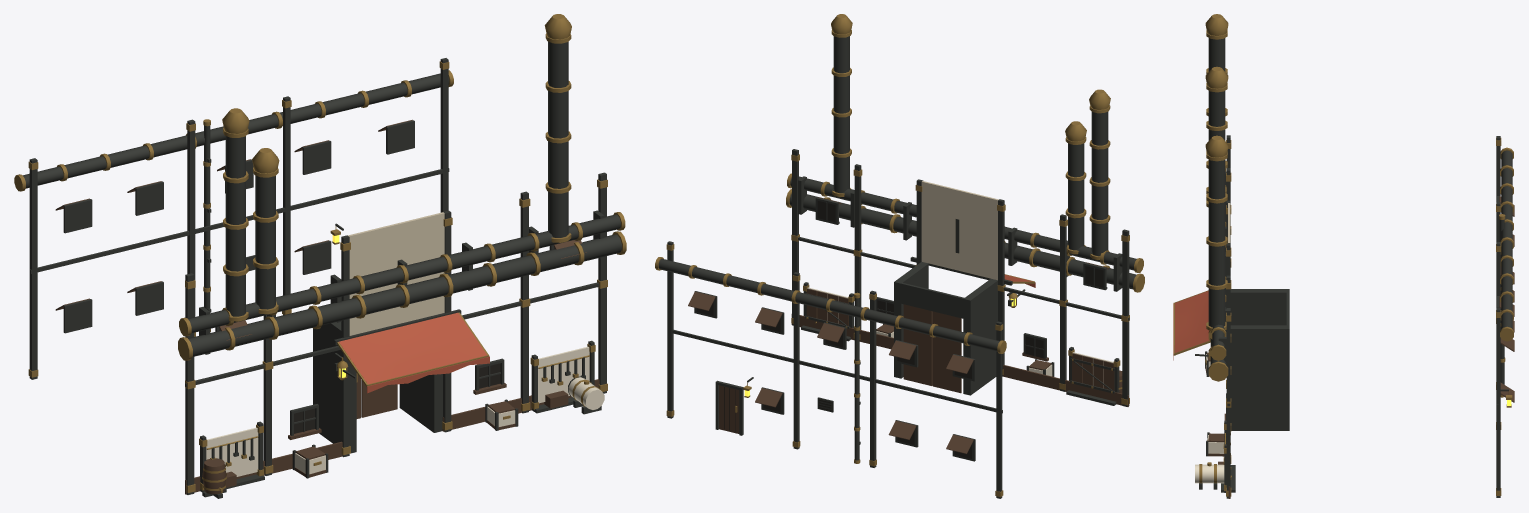
The model's file is workshop_front.glb.
3 views of the same model, side by side, from view 1: azimuth 30°, elevation 25°; view 2: azimuth 150°, elevation 25°; view 3: azimuth 270°, elevation 25° (orthographic). The views are drawn at different scales.
Parts seen in each view (by area): view 1: workshop_front; view 2: workshop_front; view 3: workshop_front.
Part boxes in pixels (bbox=[...]): workshop_front: bbox=[14, 14, 626, 498]; workshop_front: bbox=[655, 14, 1144, 498]; workshop_front: bbox=[1173, 14, 1514, 498].
Bounding box in the file's own units: 14.64 × 12.6 × 11.54.
